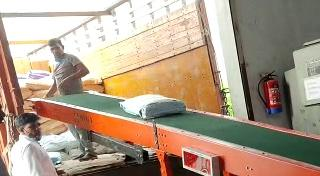box: (120, 94, 185, 118)
